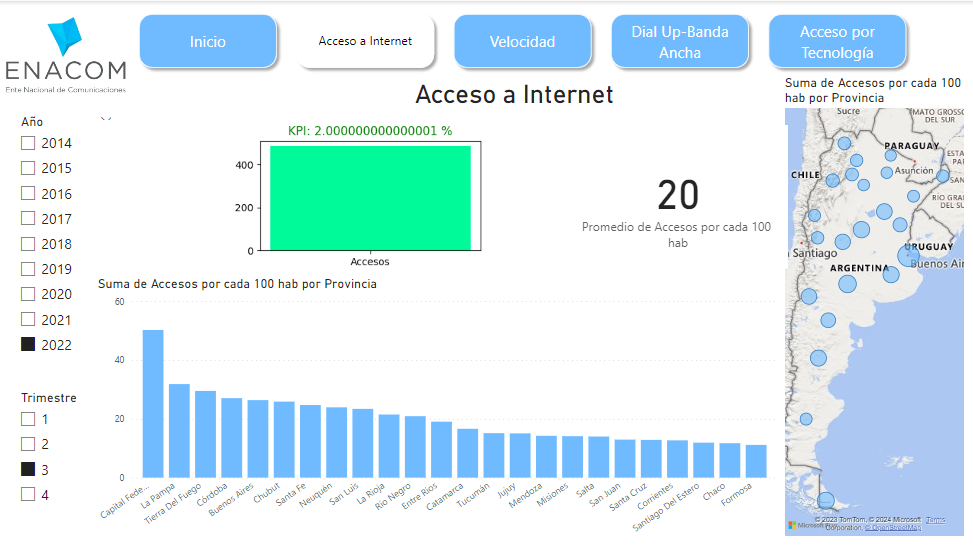

What the dashboard file says about the page in this screenshot:
{"tool":"powerbi","page":{"name":"Acceso a Internet","canvas":[1280,720],"ordinal":1},"visuals":[{"type":"textbox","box":[540.3,96.2,288.7,59.1],"z":0},{"type":"slicer","fields":{"Values":["df_internet_penetration.Año"]},"box":[16.5,143,144.4,334.1],"z":1000},{"type":"slicer","fields":{"Values":["df_internet_penetration.Trimestre"]},"box":[16.5,504.6,143,184.2],"z":2000},{"type":"image","box":[1.4,0,176,141.6],"z":3000},{"type":"pageNavigator","box":[177.4,9.6,1022.9,86.6],"z":4000},{"type":"pythonVisual","fields":{"Values":["df_internet_penetration.Accesos por cada 100 hab","df_internet_penetration.Año","df_internet_penetration.Provincia","df_internet_penetration.Trimestre"]},"box":[134.2,156,696.4,195.9],"z":5000},{"type":"map","fields":{"Category":["df_internet_penetration.Provincia"],"Size":["Sum(df_internet_penetration.Accesos por cada 100 hab)"]},"box":[1025,96.9,244.8,608.7],"z":6000},{"type":"columnChart","fields":{"Y":["Sum(df_internet_penetration.Accesos por cada 100 hab)"],"Category":["df_internet_penetration.Provincia"]},"box":[125.7,360,899.3,360],"z":7000},{"type":"card","fields":{"Values":["Avg(df_internet_penetration.Accesos por cada 100 hab)"]},"box":[746.5,162.9,288.2,188],"z":8000}]}

Visuals, with their boxes in screenshot pixels (x1, y1, x2, y2), scaled from the page's 1280x720 canvas onto the 973x549 screenshot:
textbox: crop(411, 73, 630, 118)
slicer - df_internet_penetration.Año: crop(13, 109, 122, 364)
slicer - df_internet_penetration.Trimestre: crop(13, 385, 121, 525)
image: crop(1, 0, 135, 108)
pageNavigator: crop(135, 7, 912, 73)
pythonVisual - df_internet_penetration.Accesos por cada 100 hab x df_internet_penetration.Año: crop(102, 119, 631, 268)
map - df_internet_penetration.Provincia x Sum(df_internet_penetration.Accesos por cada 100 hab): crop(779, 74, 965, 538)
columnChart - Sum(df_internet_penetration.Accesos por cada 100 hab) x df_internet_penetration.Provincia: crop(96, 274, 779, 548)
card - Avg(df_internet_penetration.Accesos por cada 100 hab): crop(567, 124, 787, 268)
